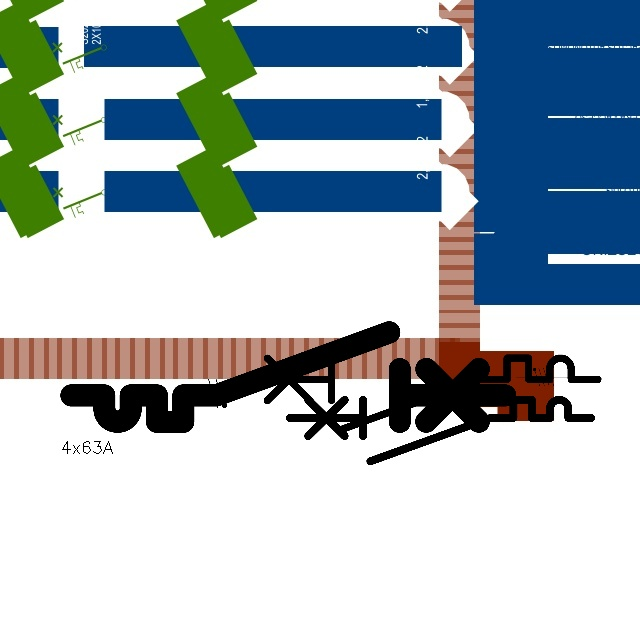interruptor_termomagnetico: (60, 321, 516, 433), (236, 349, 606, 439), (282, 392, 599, 469)
